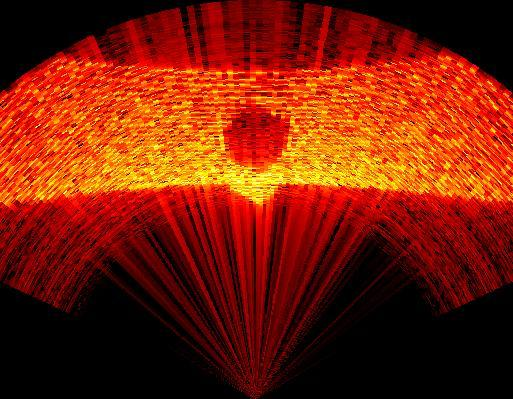box_crate: (221, 98, 293, 212)
